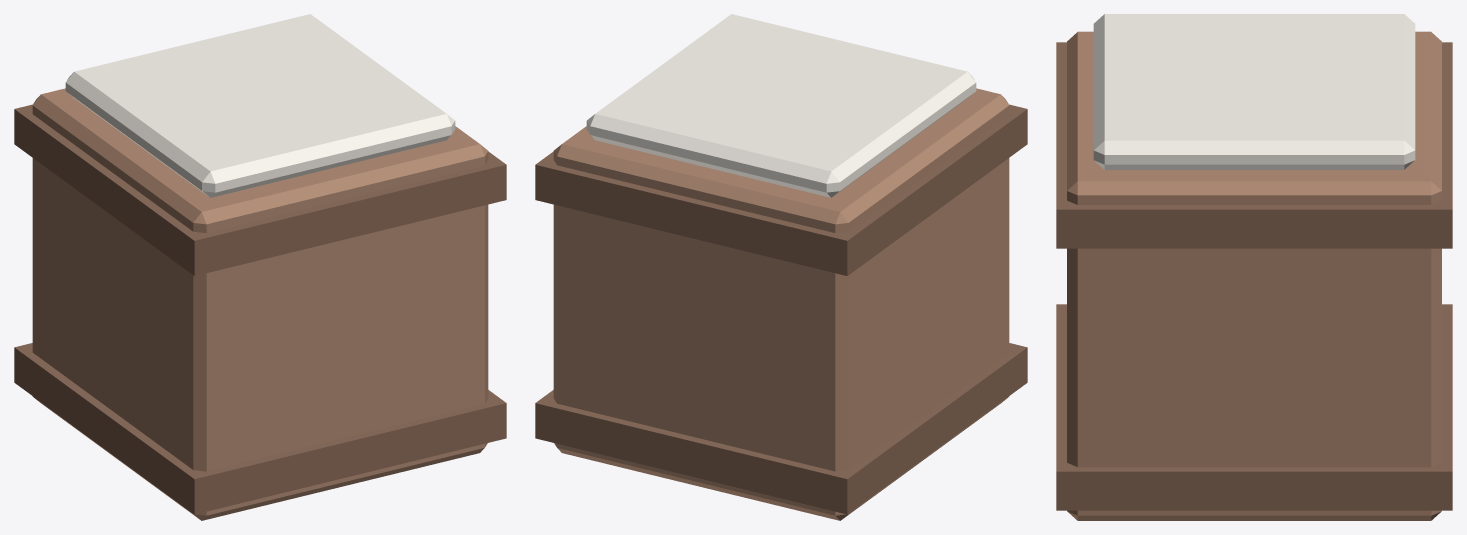
The model's file is sb_crate.glb.
3 views of the same model, side by side, from view 1: azimuth 30°, elevation 25°; view 2: azimuth 150°, elevation 25°; view 3: azimuth 270°, elevation 25° (orthographic). The views are drawn at different scales.
Visible parts, largest first — view 1: crate; view 2: crate; view 3: crate.
Boxes of the visible parts, x1=… form: crate: x1=14, y1=14, x2=506, y2=520; crate: x1=535, y1=14, x2=1027, y2=520; crate: x1=1056, y1=14, x2=1452, y2=520.
Size of the model in its own units: 0.74 by 0.76 by 0.74.
